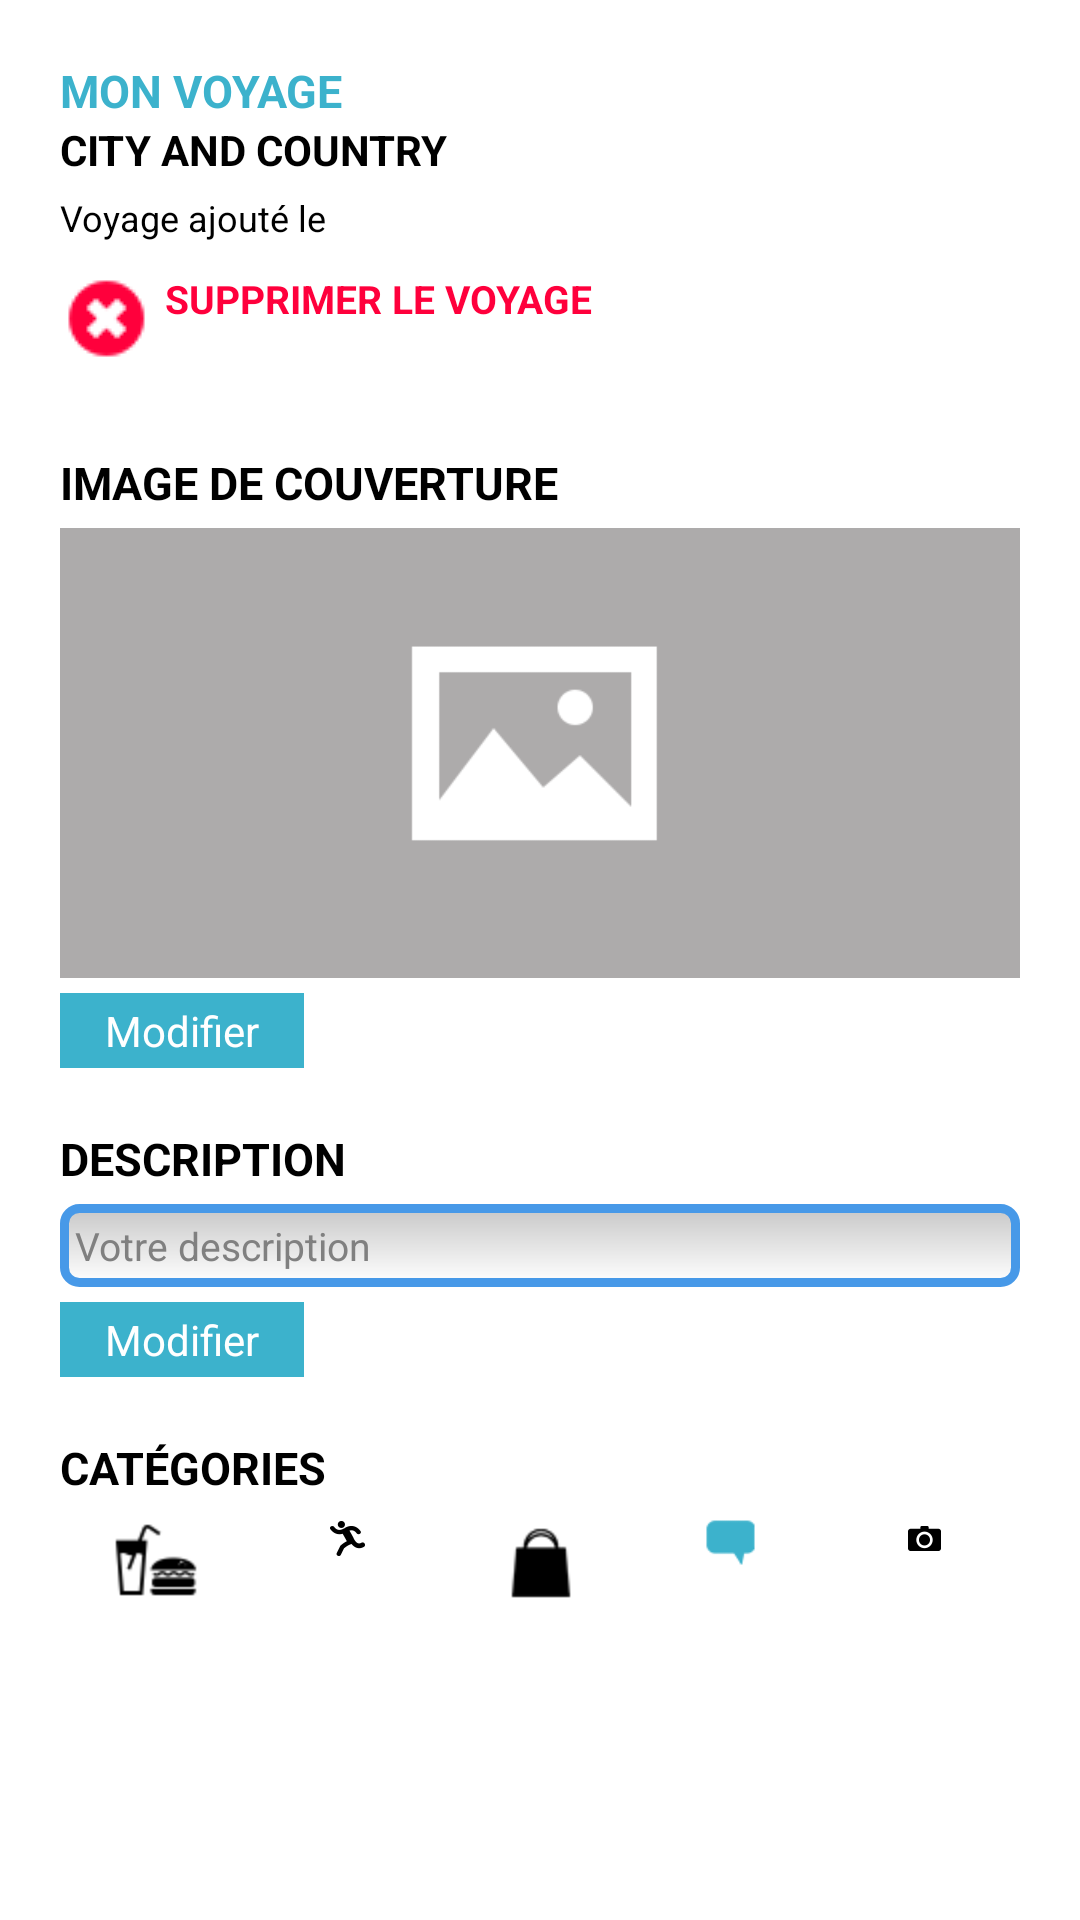

Where to tap for icons on this 1080w x 1920h app screen, as point (x, y):
commentaire: point (730, 1542)
delete trip: point (106, 318)
Fooding: point (156, 1560)
Hobbies: point (347, 1538)
Pictures: point (924, 1538)
Shopping: point (541, 1563)
